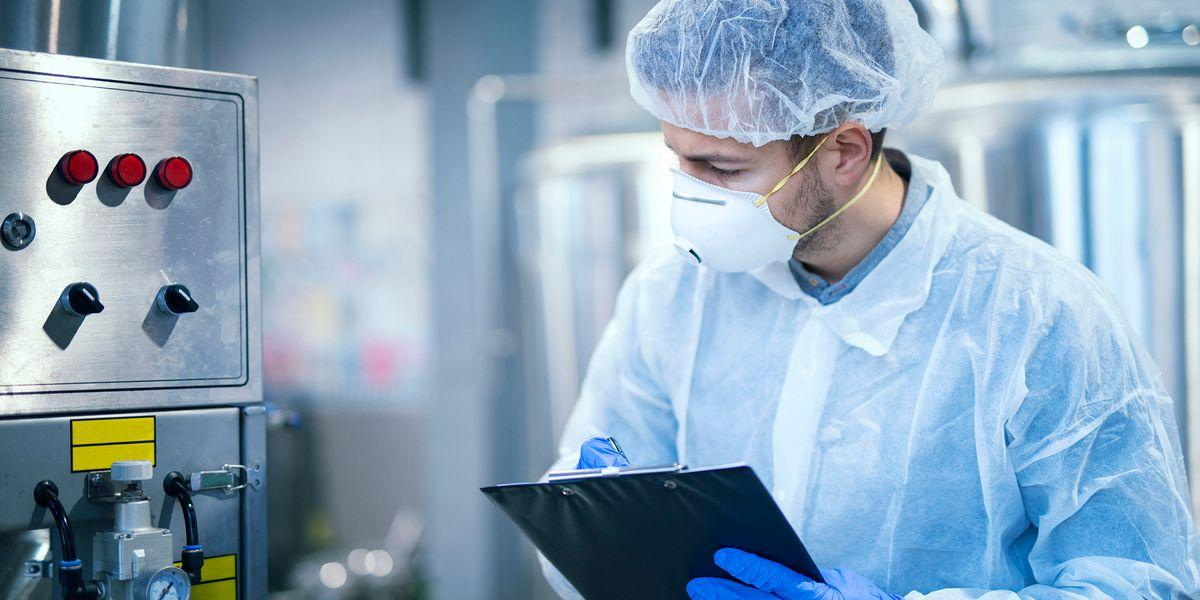hairnet: (633, 0, 959, 135)
mask: (645, 157, 826, 302)
